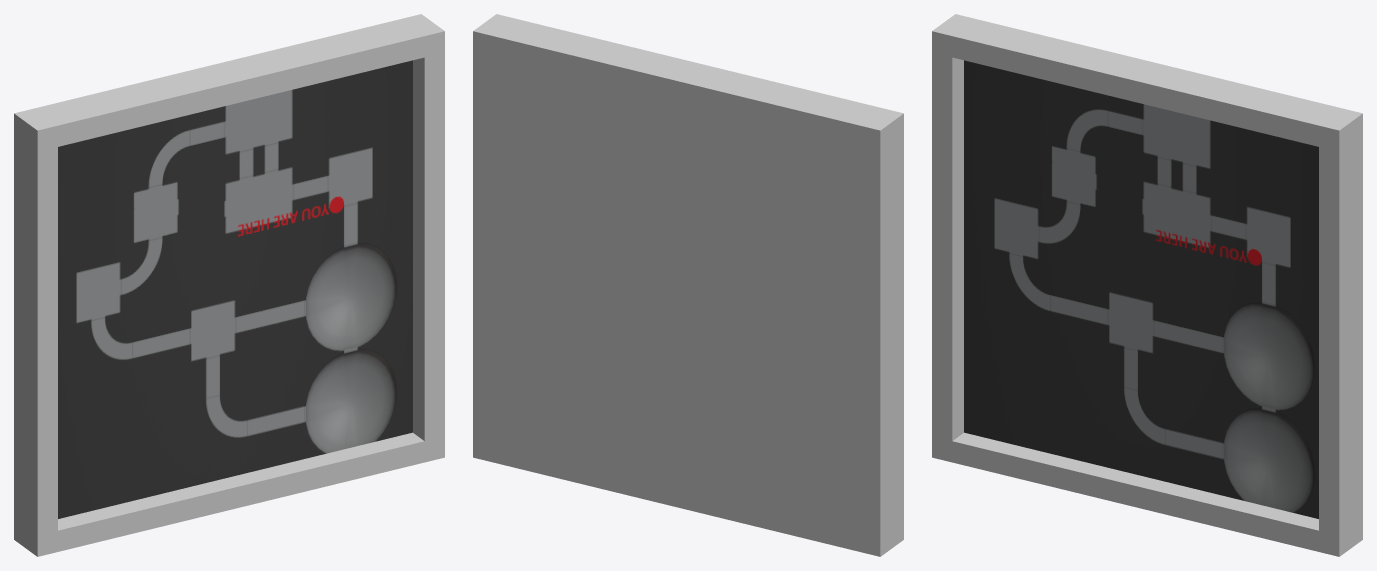
The model's file is Frame.fbx.
3 renders of one model, left to right at view 1: azimuth 30°, elevation 25°; view 2: azimuth 150°, elevation 25°; view 3: azimuth 330°, elevation 25°, orthographic.
Visible parts, largest first — view 1: Frame; view 2: Frame; view 3: Frame.
Part boxes in pixels (x1,y1,x2,y2): Frame: (14,14,444,556); Frame: (473,14,903,556); Frame: (932,14,1362,556).
Size of the model in its own units: 300 by 300 by 30.
